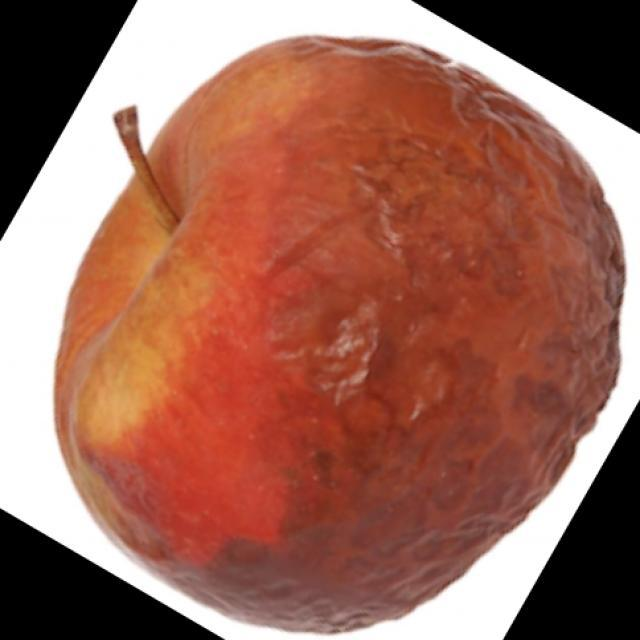Rotten: (27, 32, 625, 620)
